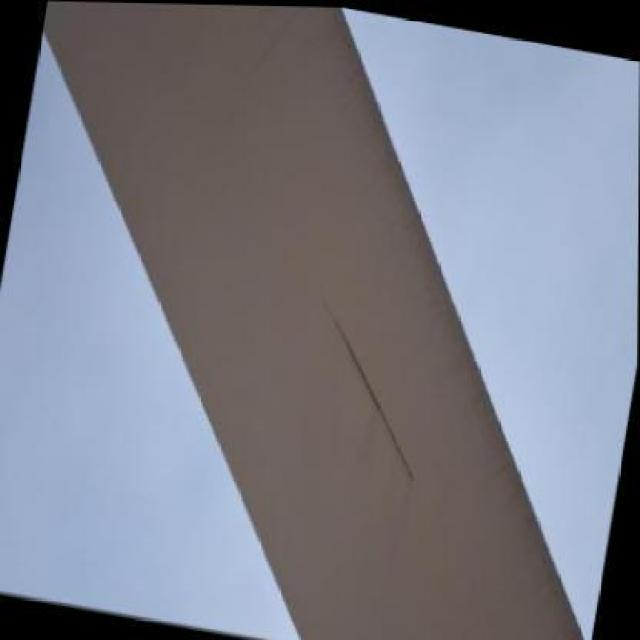Crack: (308, 290, 452, 508)
